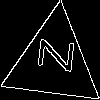Z: (28, 37, 75, 73)
